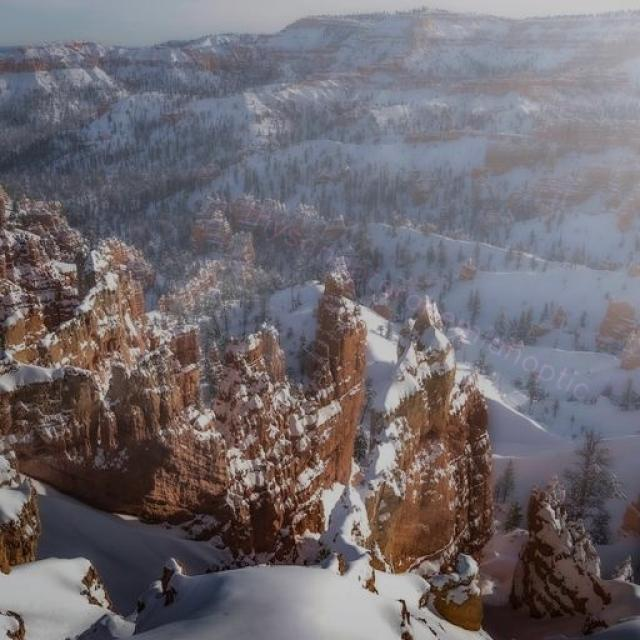watermark: (232, 194, 608, 407)
